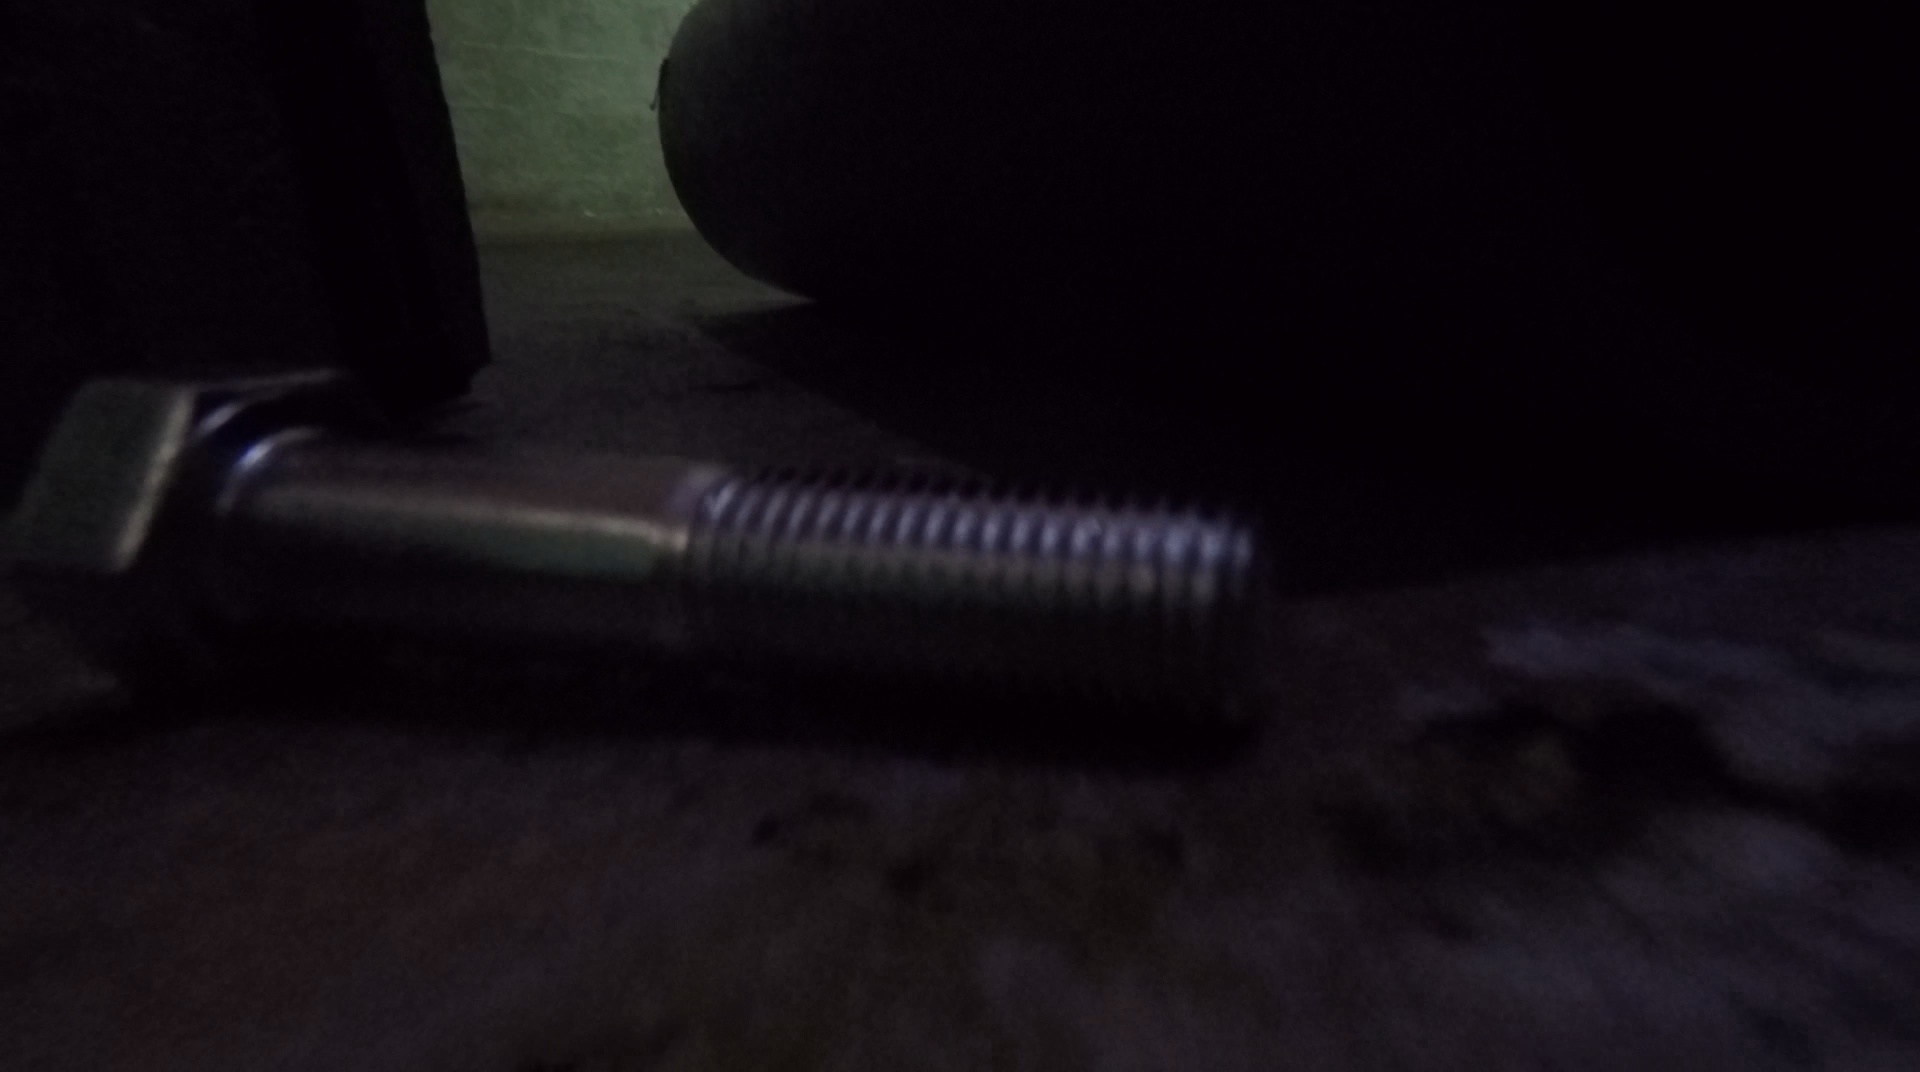bolt: (7, 359, 1284, 752)
pipe: (653, 1, 992, 301)
